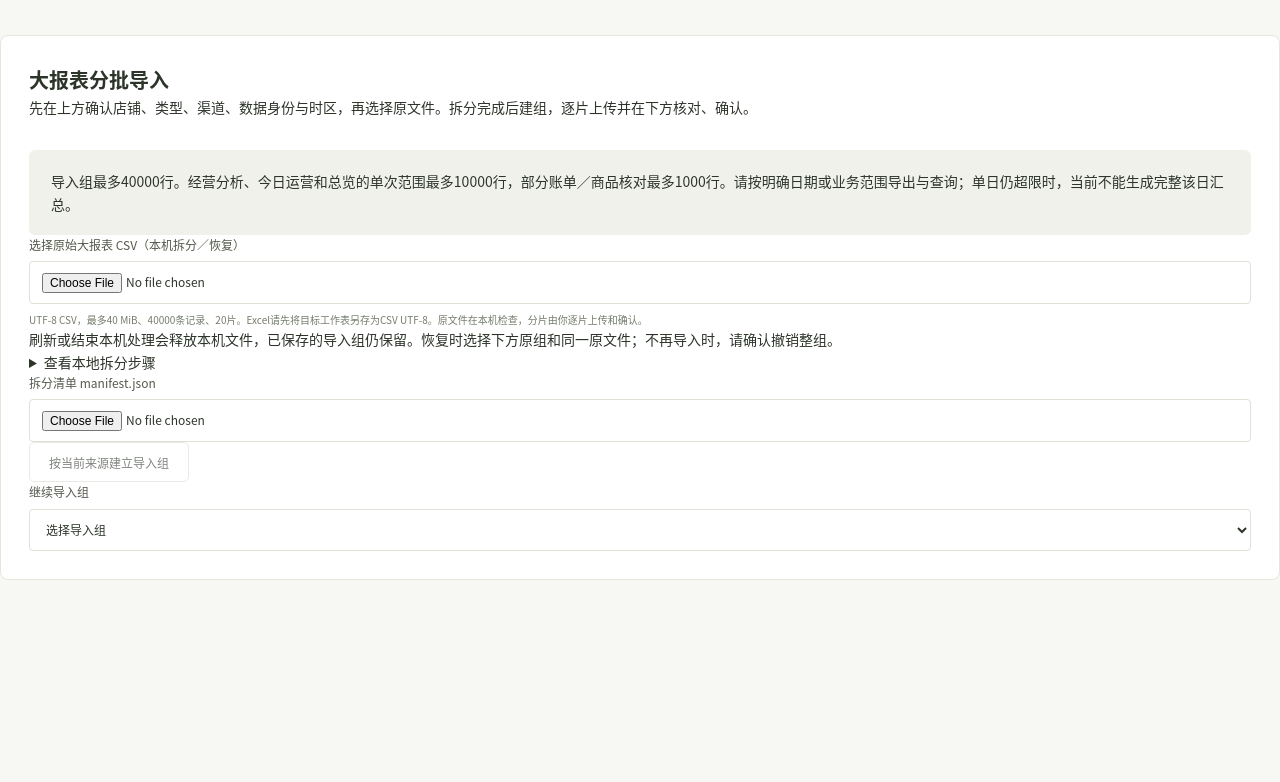
it: import groups › drops a late response after the seller selects another shop
This screenshot has width=1280, height=782.
Select "#2 <img src=x>.csv · 部分覆盖／数据不足" in the dropdown labelled "继续导入组": [640, 530] box [29,508,1251,550]
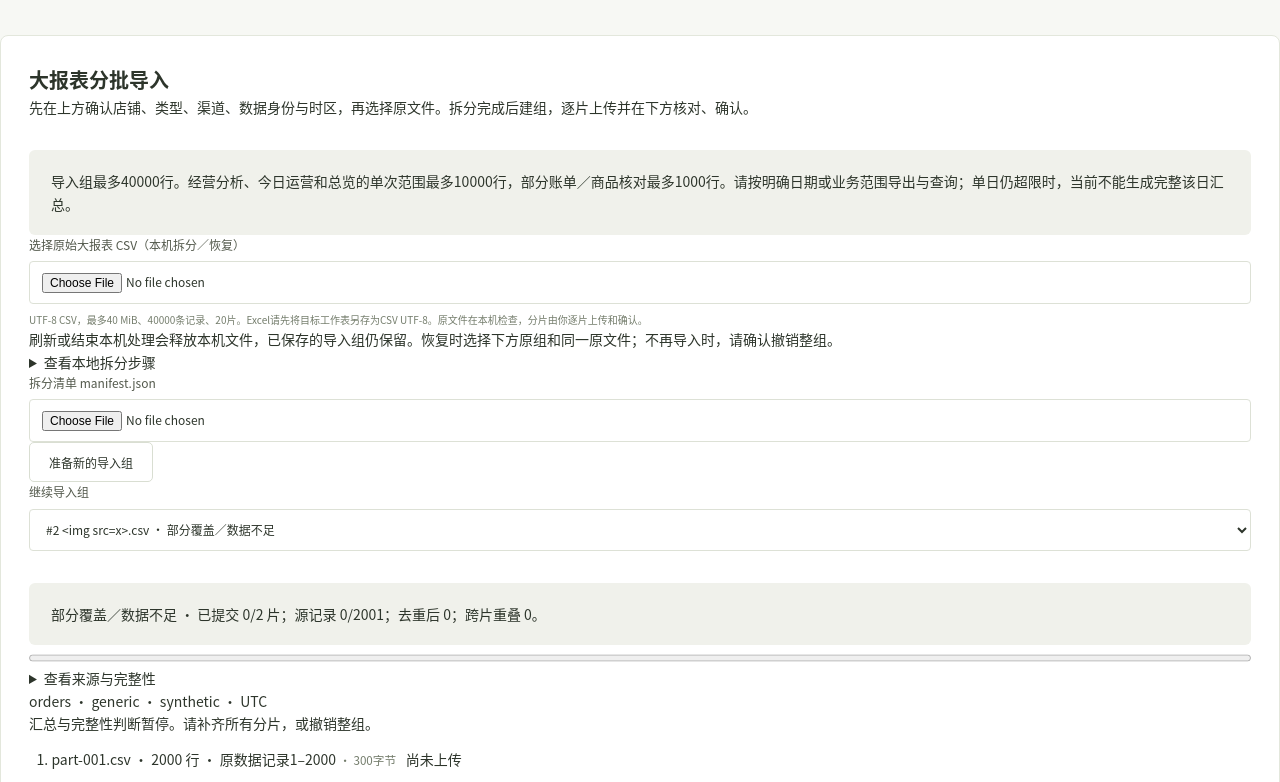
Expected: the text "部分覆盖／数据不足" is shown, [51,604,546,624]
